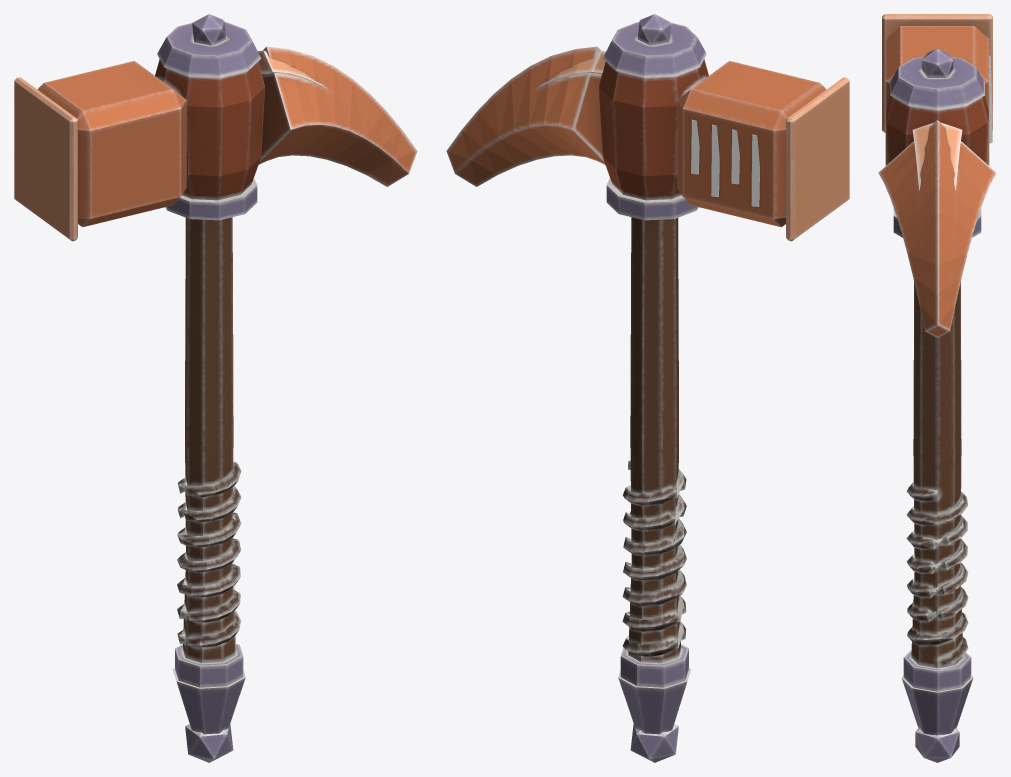
Rendered from KilnPickaxe.glb.
The picture shows the model from 3 angles, left to right: view 1: azimuth 30°, elevation 25°; view 2: azimuth 150°, elevation 25°; view 3: azimuth 270°, elevation 25°; orthographic projection. The views are drawn at different scales.
Parts seen in each view (by area): view 1: Body__Tex; view 2: Body__Tex, Head__Accent; view 3: Body__Tex, Head__Accent.
Boxes of the visible parts, x1,y1,x2,y2 form: Body__Tex: (14,14,417,762); Body__Tex: (446,14,849,762); Head__Accent: (691,119,759,206); Body__Tex: (878,14,996,762); Head__Accent: (989,55,992,143).
Bounding box in the file's own units: 2.24 × 4.26 × 0.64.
Materials: 1 (1 with a texture image).
